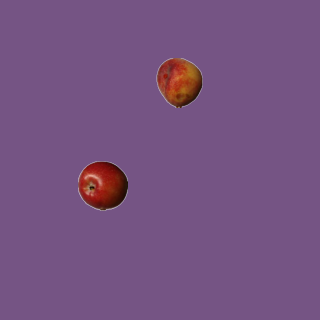Apple Braeburn: (77, 160, 127, 210)
Peach: (154, 57, 204, 107)
